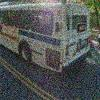buses: (0, 0, 93, 74)
